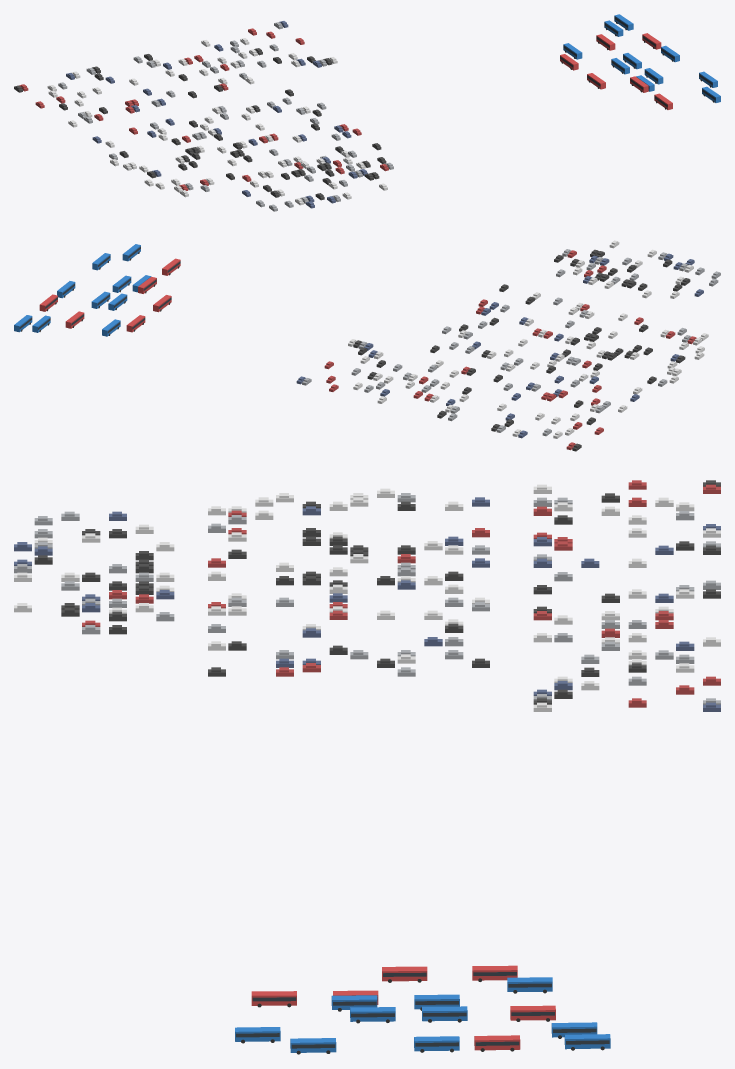
The model's file is existing_vehicles.glb.
3 views of the same model, one above another, from view 1: azimuth 30°, elevation 25°; view 2: azimuth 150°, elevation 25°; view 3: azimuth 270°, elevation 25° (orthographic). The views are drawn at different scales.
Visible parts, largest first — view 1: CTX_Roof_Cars, BTC_Buses_Blue, BTC_Buses_Red, BTC_Bus_Windows; view 2: CTX_Roof_Cars, BTC_Buses_Blue, BTC_Buses_Red, BTC_Bus_Windows; view 3: CTX_Roof_Cars, BTC_Buses_Blue, BTC_Buses_Red, BTC_Bus_Windows.
Part boxes in pixels (x1,y1,x2,y2): CTX_Roof_Cars: [14, 21, 393, 211]; BTC_Buses_Blue: [563, 14, 720, 102]; BTC_Buses_Red: [560, 33, 672, 109]; BTC_Bus_Windows: [560, 17, 715, 106]; CTX_Roof_Cars: [296, 240, 720, 451]; BTC_Buses_Blue: [14, 244, 151, 336]; BTC_Buses_Red: [39, 258, 180, 332]; BTC_Bus_Windows: [19, 246, 180, 333]; CTX_Roof_Cars: [14, 480, 720, 711]; BTC_Buses_Blue: [235, 977, 610, 1052]; BTC_Buses_Red: [251, 965, 555, 1050]; BTC_Bus_Windows: [236, 972, 609, 1048].
Bounding box in the file's own units: 278 × 27.9 × 171.
